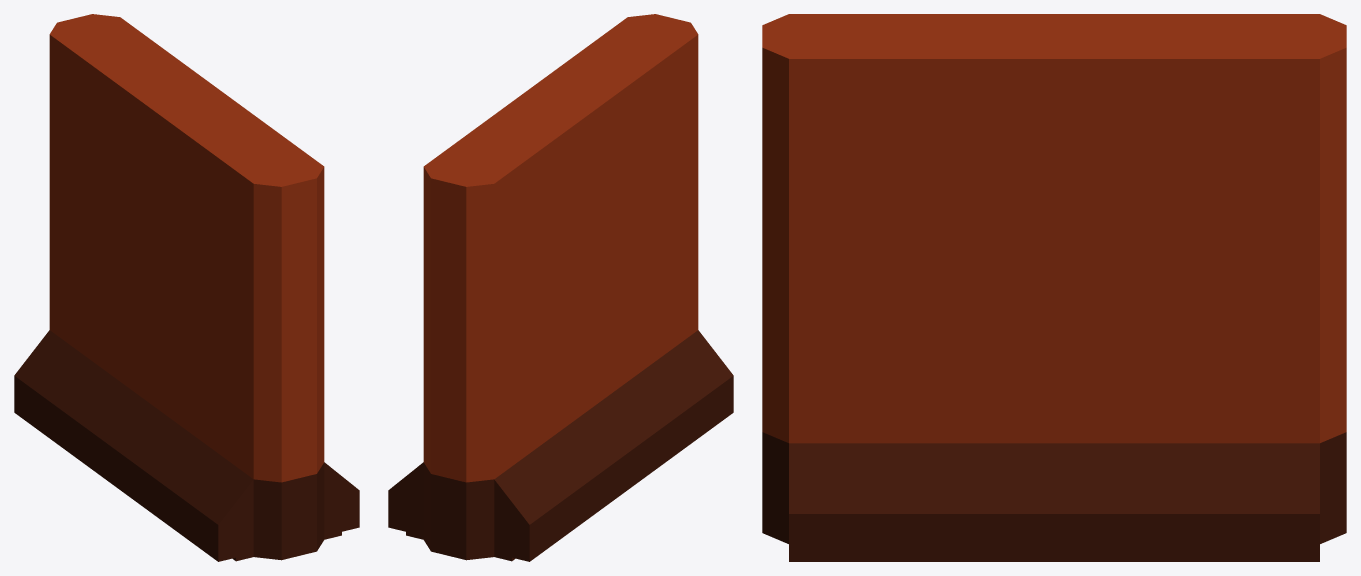
Rendered from Wall_32_0.fbx.
3 renders of one model, left to right at view 1: azimuth 30°, elevation 25°; view 2: azimuth 150°, elevation 25°; view 3: azimuth 270°, elevation 25°, orthographic. The views are drawn at different scales.
Visible parts, largest first — view 1: Wall/32_0; view 2: Wall/32_0; view 3: Wall/32_0.
Boxes of the visible parts, x1,y1,x2,y2 form: Wall/32_0: [14, 14, 359, 561]; Wall/32_0: [388, 14, 733, 561]; Wall/32_0: [762, 14, 1346, 561].
Bounding box in the file's own units: 0.4 × 1.1 × 1.01.
